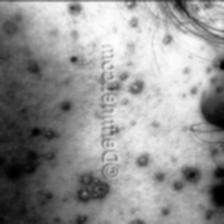Toxin: (76, 176, 106, 200), (2, 160, 18, 176), (130, 82, 144, 92)
